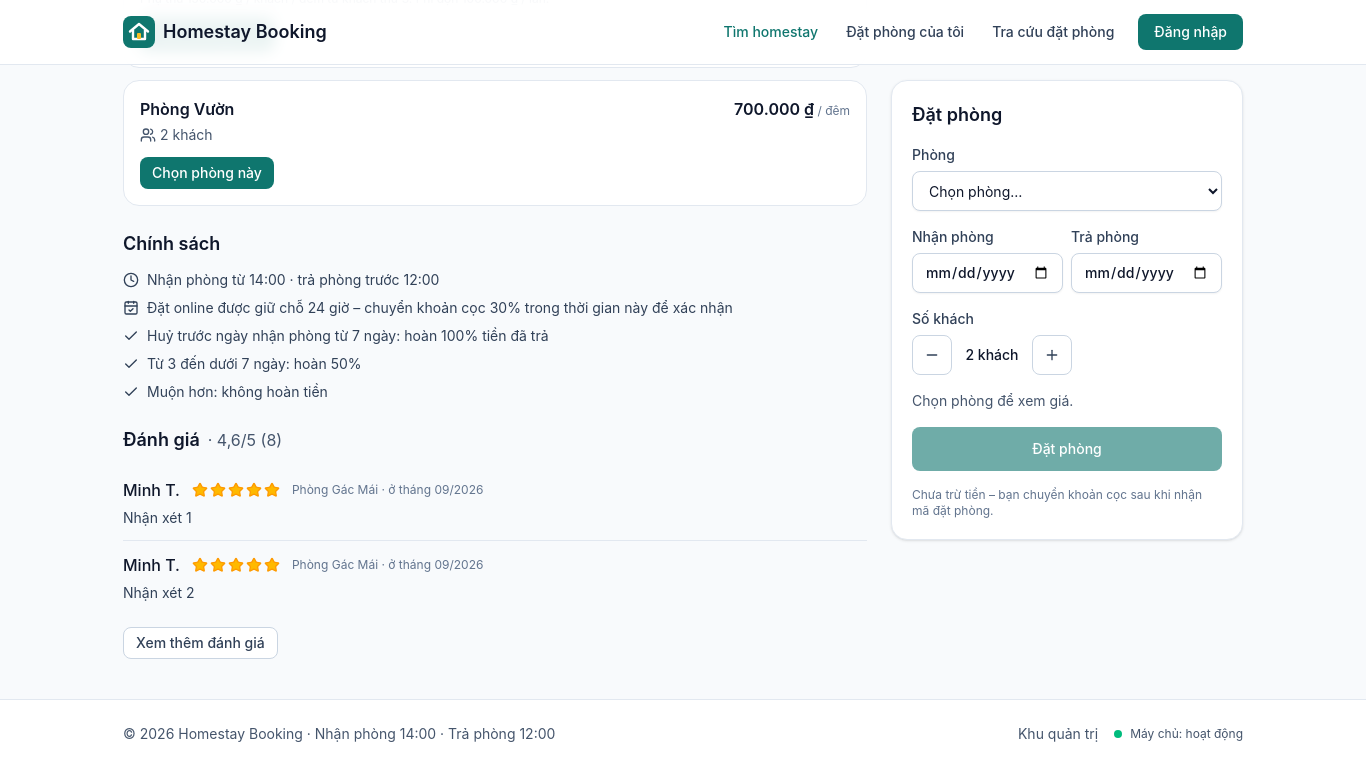
đánh giá › trang homestay: điểm trung bình + danh sách tên rút gọn, "Xem thêm" tải trang 2
(page scrolled)
Expected: the text "Nhận xét 1" is shown, [123,509,192,526]
Expected: the text "Nhận xét 2" is shown, [123,584,194,601]
Click the button "Xem thêm đánh giá": (200, 643) [123,627,278,659]
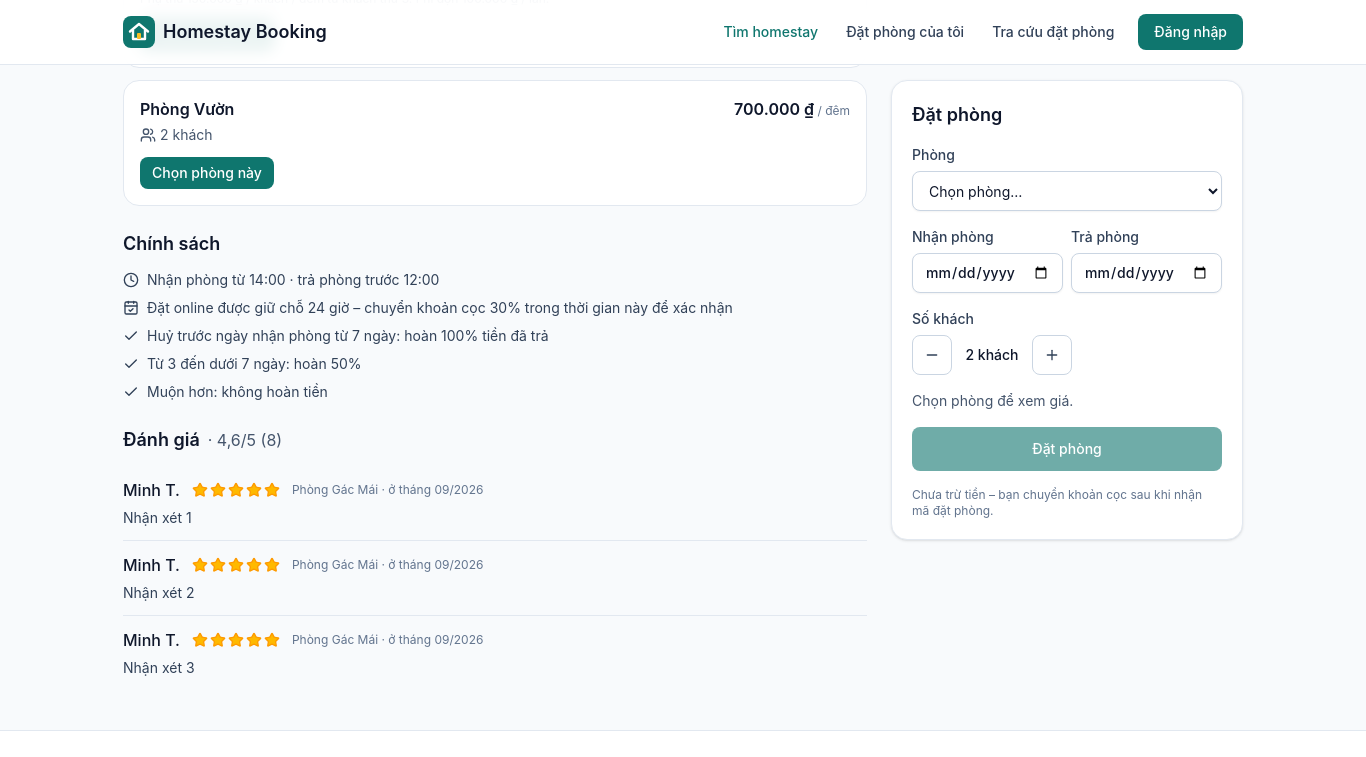
Result: the text "Nhận xét 3" is shown at [123,659,195,676]
Result: the button "Xem thêm đánh giá" is gone
